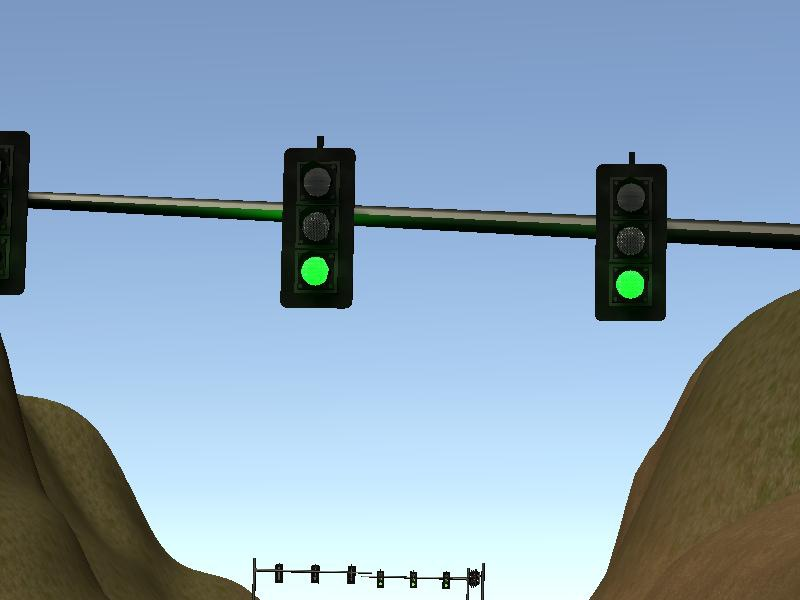Green: (276, 144, 359, 313), (591, 159, 670, 325), (440, 568, 452, 591), (375, 569, 386, 589), (407, 569, 418, 589)
